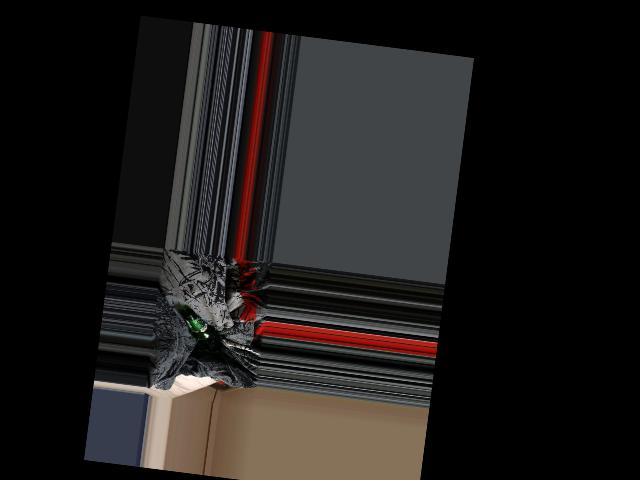beer: (177, 307, 226, 351)
